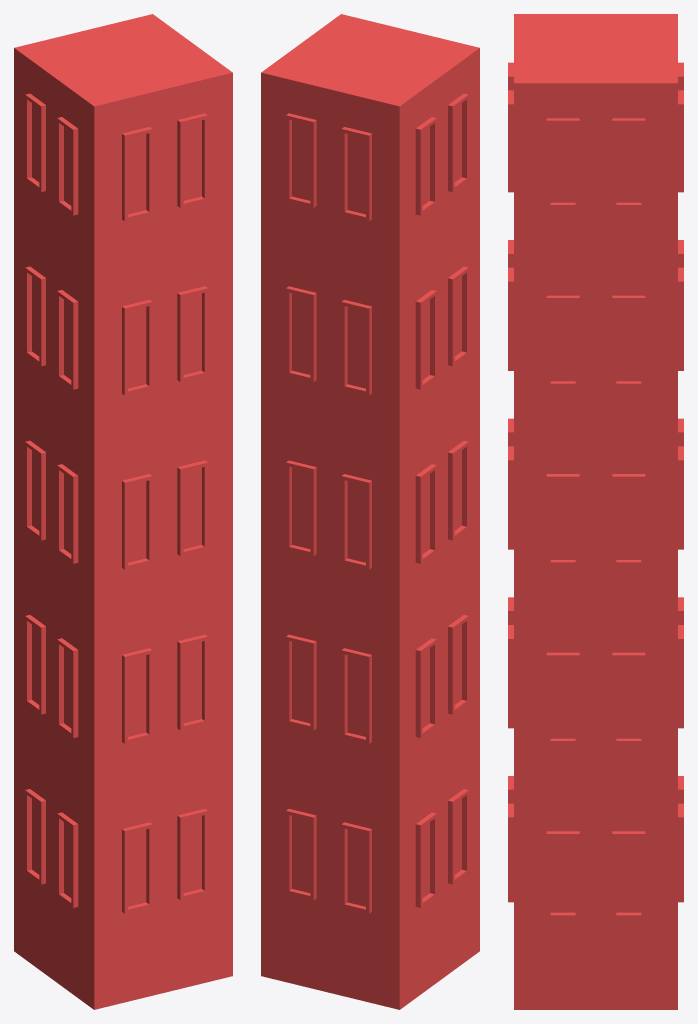
The model's file is VGA223_Kiriakidis_Alexandros_Building2.FBX.
3 views of the same model, side by side, from view 1: azimuth 30°, elevation 25°; view 2: azimuth 150°, elevation 25°; view 3: azimuth 270°, elevation 25° (orthographic). The views are drawn at different scales.
Parts seen in each view (by area): view 1: Box003; view 2: Box003; view 3: Box003.
Part boxes in pixels (left/top/right/bottom): Box003: left=14, top=14, right=232, bottom=1009; Box003: left=261, top=14, right=479, bottom=1009; Box003: left=508, top=14, right=683, bottom=1009.
Size of the model in its own units: 1607 by 9338 by 1607.
